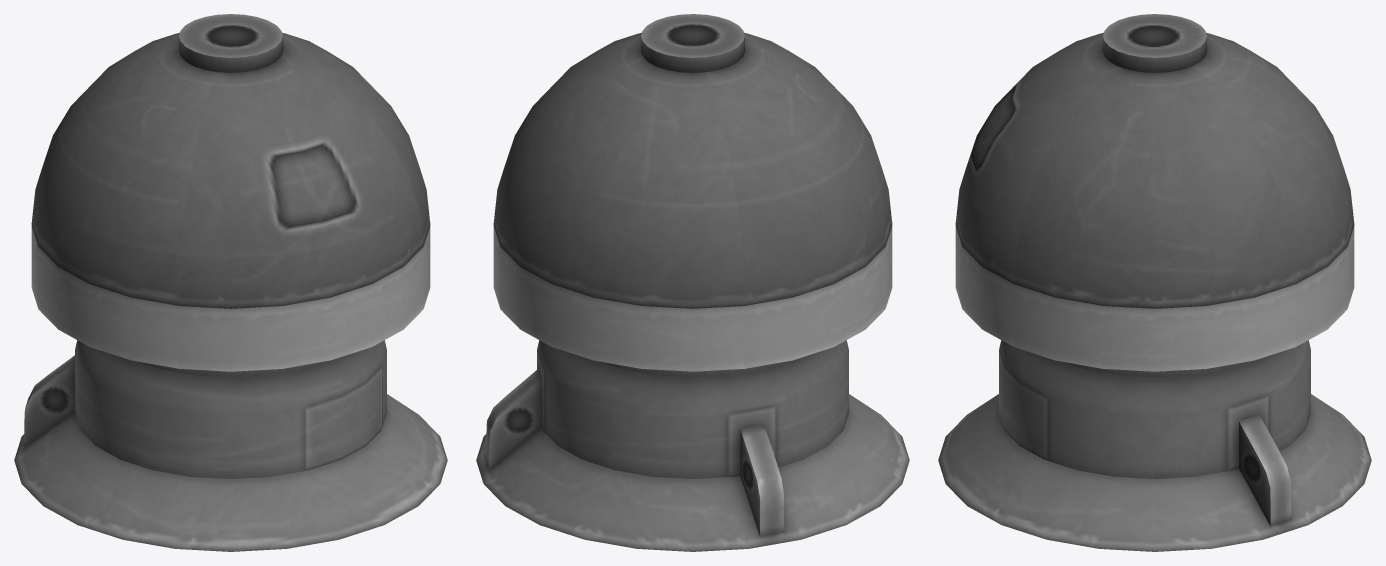
The model's file is 1mv_sensor_greyscale_camera_s0_1.obj.
The picture shows the model from 3 angles, left to right: view 1: azimuth 30°, elevation 25°; view 2: azimuth 150°, elevation 25°; view 3: azimuth 270°, elevation 25°; orthographic projection.
Parts seen in each view (by area): view 1: mesh1; view 2: mesh1; view 3: mesh1.
Boxes of the visible parts, x1=… form: mesh1: x1=14, y1=14, x2=447, y2=551; mesh1: x1=476, y1=14, x2=909, y2=551; mesh1: x1=938, y1=14, x2=1371, y2=551.
Bounding box in the file's own units: 0.625 × 0.675 × 0.625.
1 material, 1 textured.
